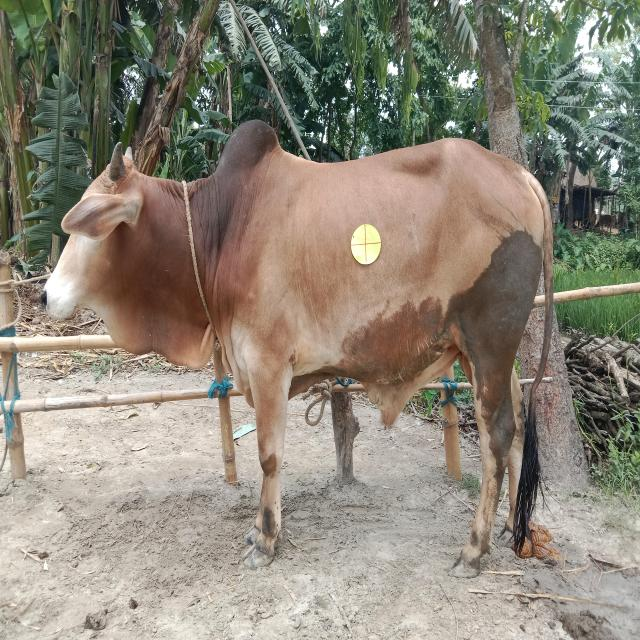badan_sapi: (206, 150, 544, 387)
sapi: (38, 110, 573, 590)
